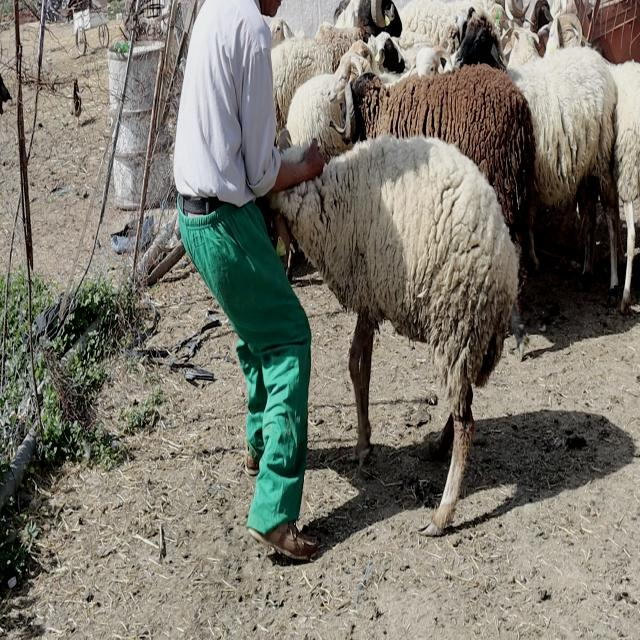Score_5: (267, 136, 519, 535)
